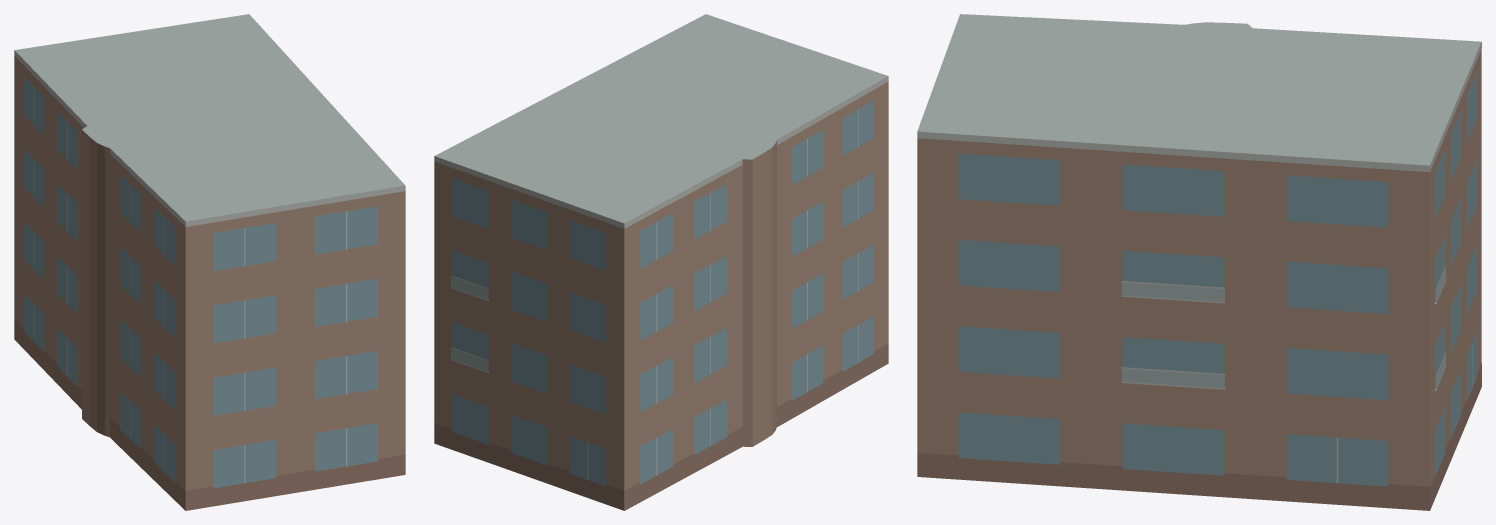
File: survey-upis-32526197.glb
3 views of the same model, side by side, from view 1: azimuth 30°, elevation 25°; view 2: azimuth 150°, elevation 25°; view 3: azimuth 270°, elevation 25° (orthographic). The views are drawn at different scales.
Parts seen in each view (by area): view 1: survey-upis-32526197.tmp; view 2: survey-upis-32526197.tmp; view 3: survey-upis-32526197.tmp.
Part boxes in pixels (left/top/right/bottom): survey-upis-32526197.tmp: left=14, top=14, right=405, bottom=510; survey-upis-32526197.tmp: left=434, top=14, right=888, bottom=510; survey-upis-32526197.tmp: left=917, top=14, right=1481, bottom=510.
Bounding box in the file's own units: 12.07 × 12.8 × 18.98.
